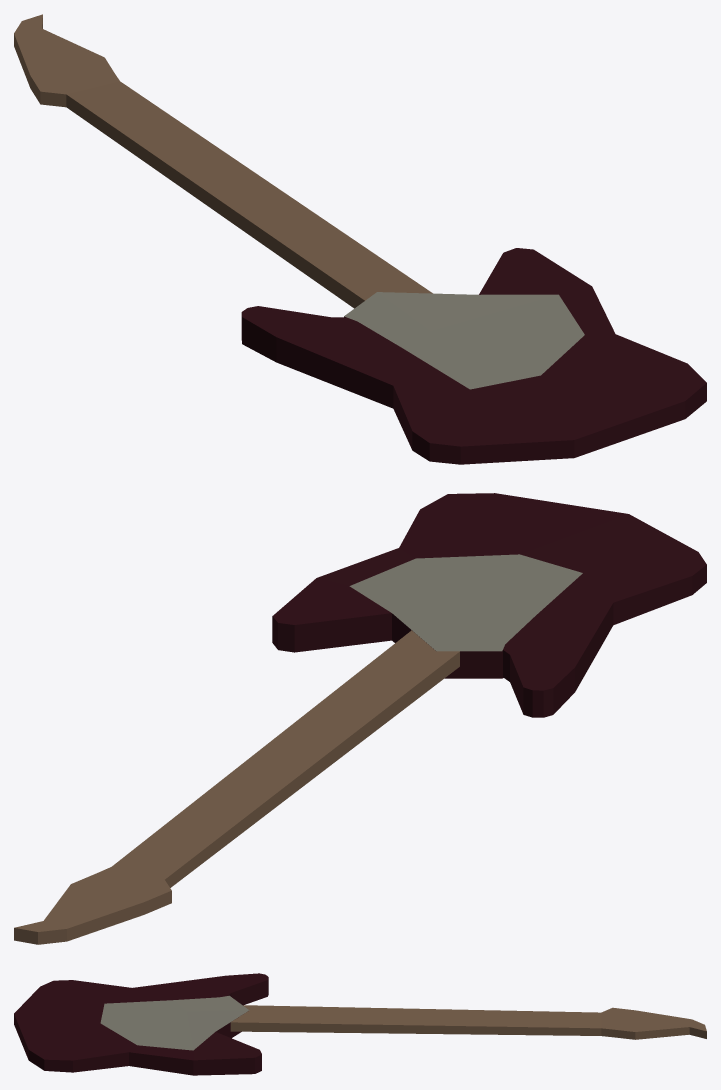
File: BassGuitar.fbx
3 renders of one model, top to bottom at view 1: azimuth 30°, elevation 25°; view 2: azimuth 150°, elevation 25°; view 3: azimuth 270°, elevation 25°, orthographic. The views are drawn at different scales.
Parts seen in each view (by area): view 1: Bass Guitar; view 2: Bass Guitar; view 3: Bass Guitar.
Part boxes in pixels (x1,y1,x2,y2): Bass Guitar: [14, 14, 706, 464]; Bass Guitar: [14, 493, 706, 944]; Bass Guitar: [14, 973, 706, 1075].
Bounding box in the file's own units: 58.7 × 5.29 × 199.
